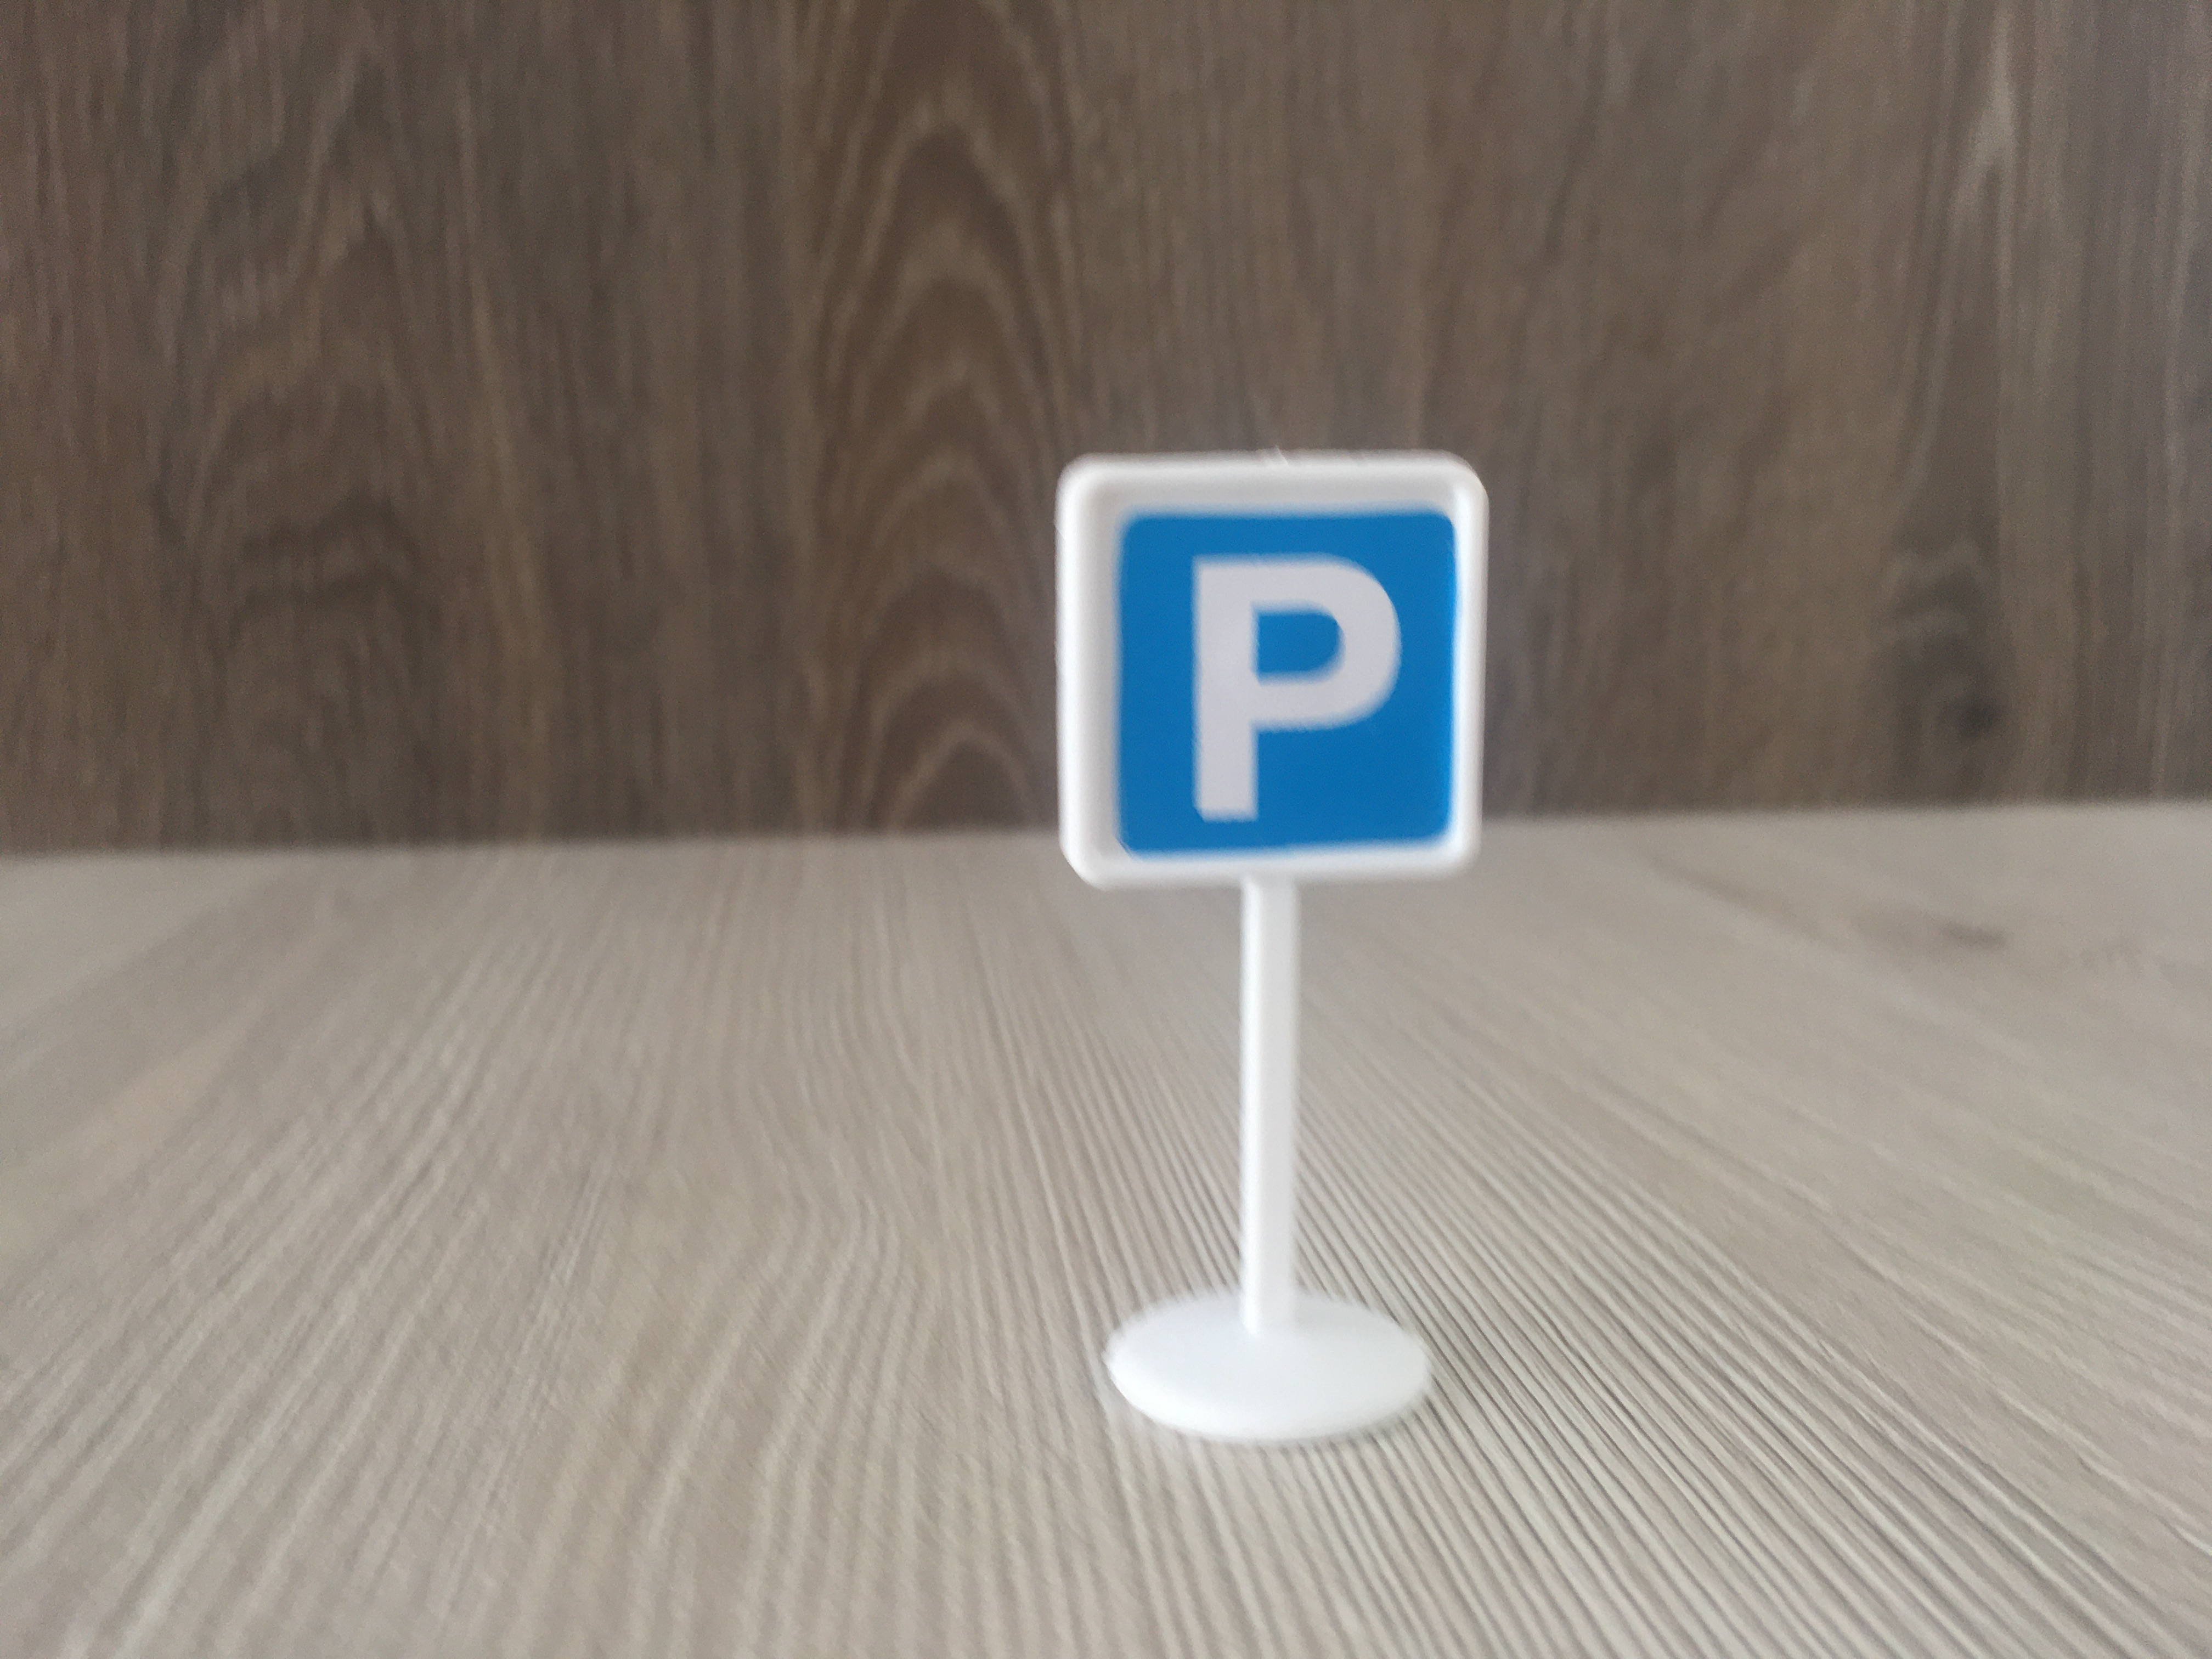parking: (1049, 451, 1491, 894)
